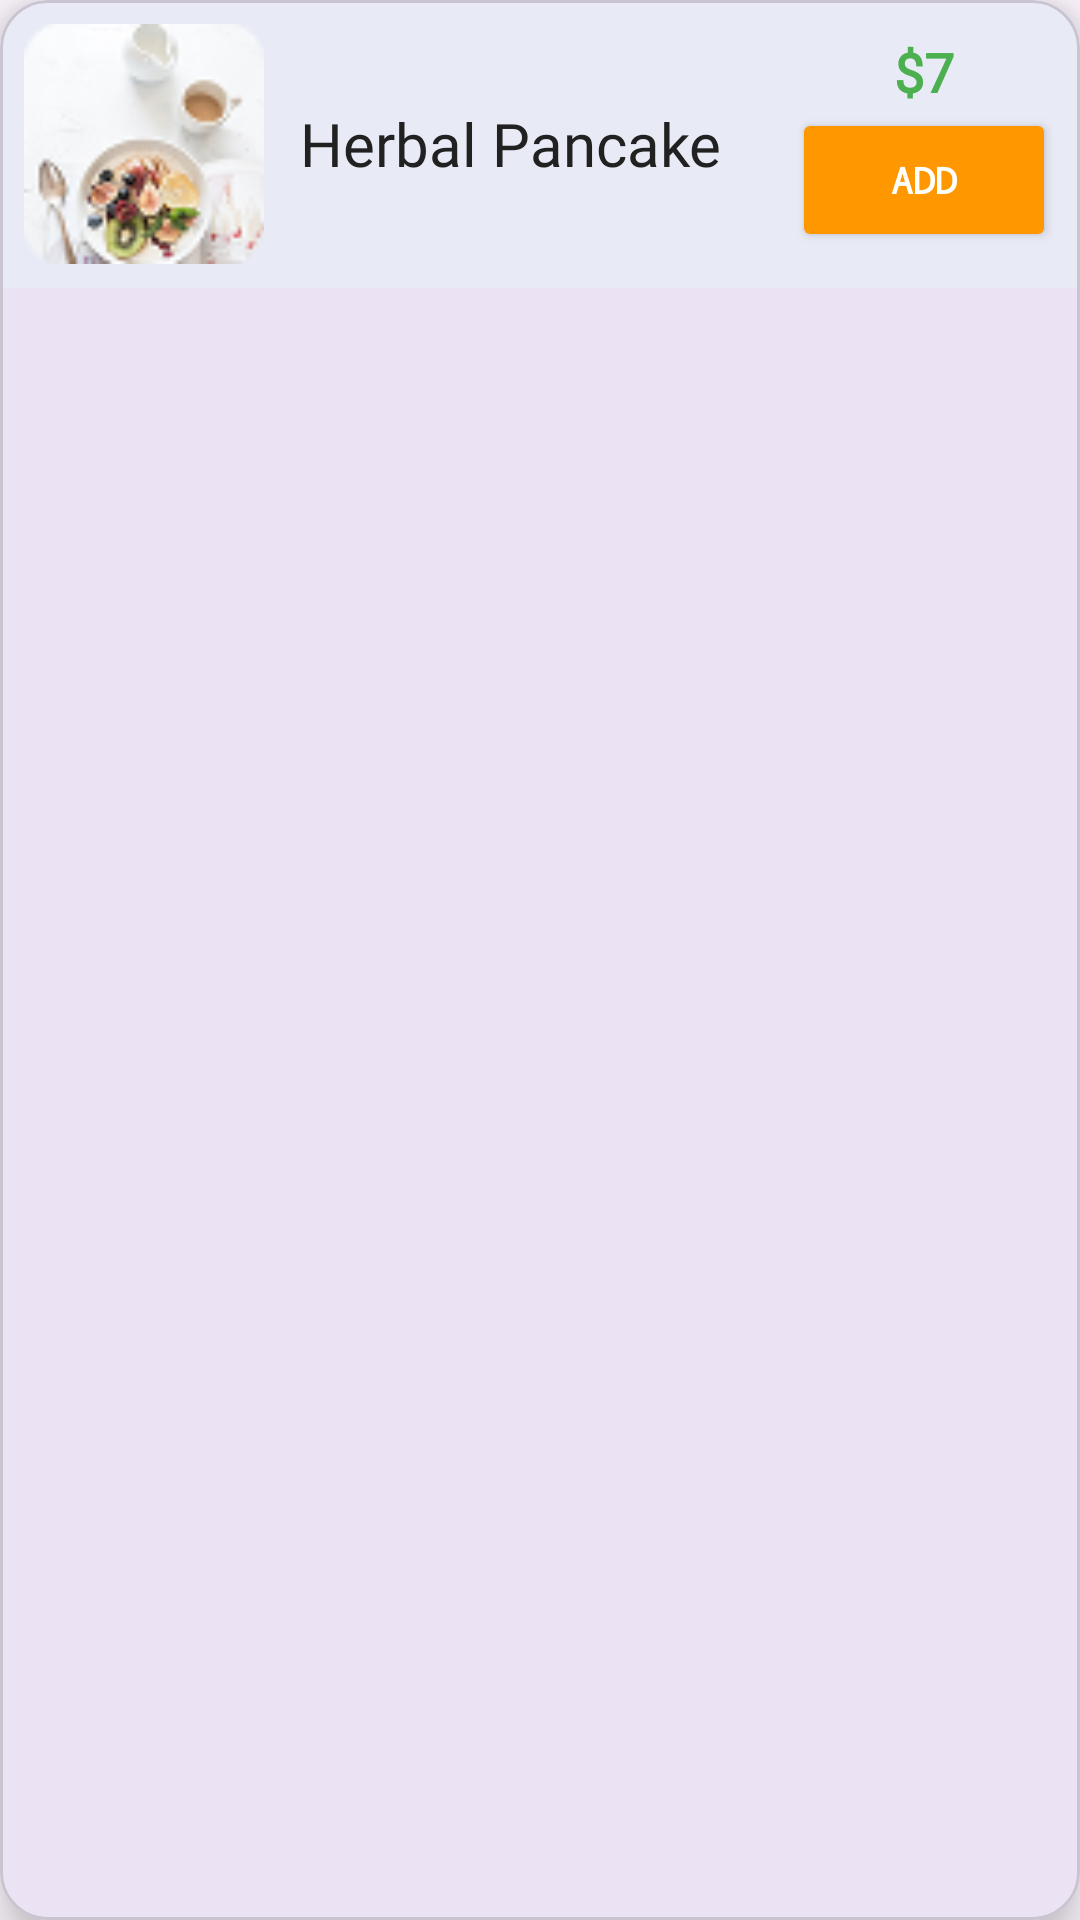

Screen size 1080 × 1920. Icon name, then its box in pixels as (x1, y1, x2, y2):
Food Image: (24, 24, 264, 264)
